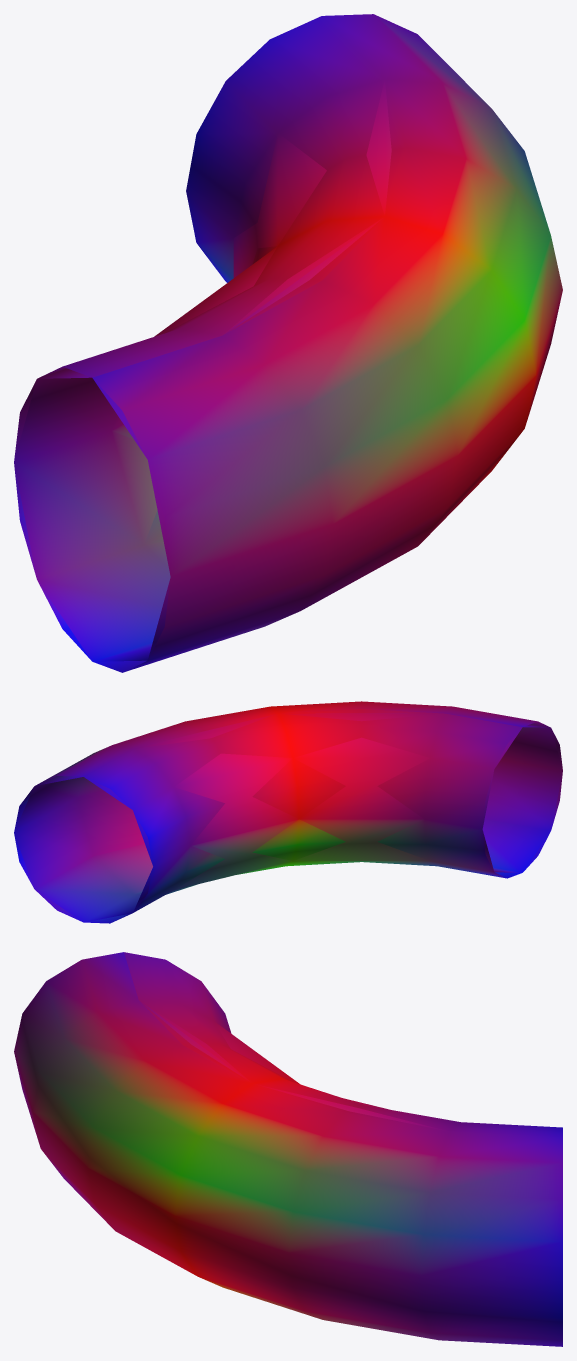
The model's file is PipaB_C_1.fbx.
3 renders of one model, top to bottom at view 1: azimuth 30°, elevation 25°; view 2: azimuth 150°, elevation 25°; view 3: azimuth 270°, elevation 25°, orthographic. The views are drawn at different scales.
Visible parts, largest first — view 1: Pipe.001, Pipe.002; view 2: Pipe.002, Pipe.001; view 3: Pipe.001, Pipe.002.
Part boxes in pixels (box(x1,y1,x2,y2)): Pipe.001: box(14, 14, 562, 672); Pipe.002: box(14, 80, 391, 661); Pipe.002: box(14, 713, 562, 922); Pipe.001: box(14, 701, 562, 923); Pipe.001: box(14, 952, 562, 1346); Pipe.002: box(140, 1001, 447, 1131).
Bounding box in the file's own units: 125 × 50 × 125.
